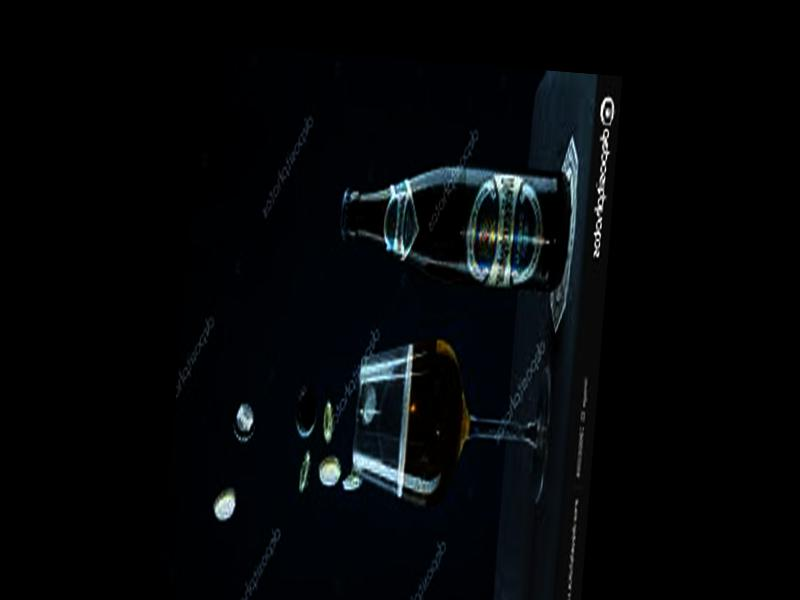Beer: (338, 159, 570, 289)
